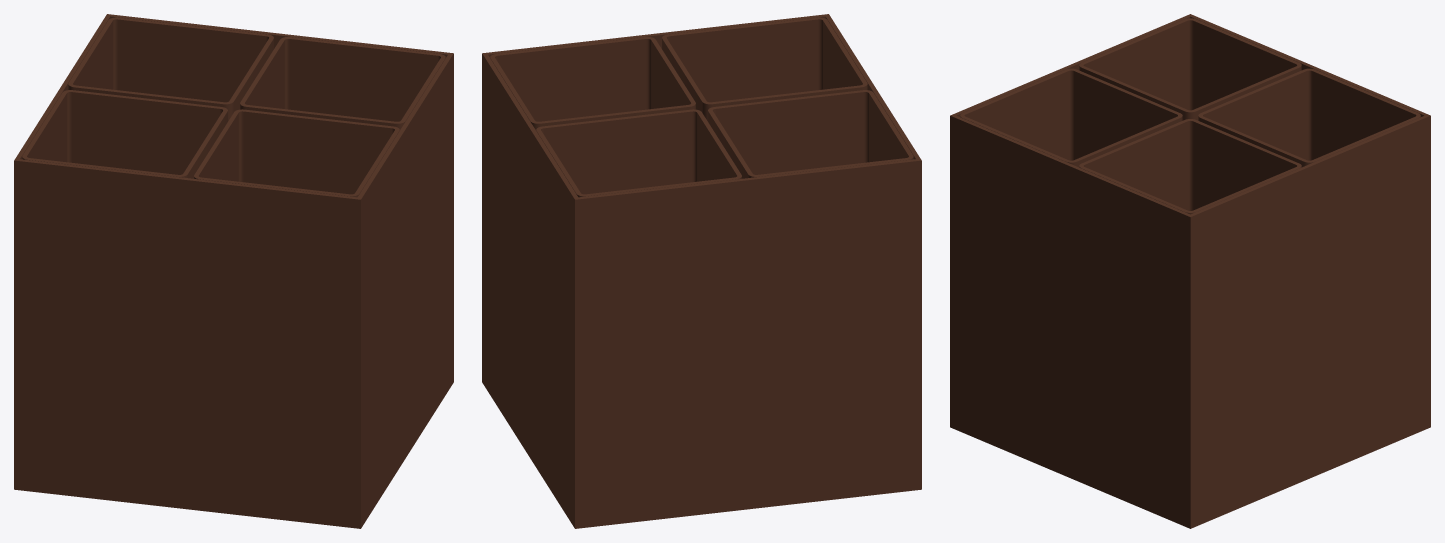
3 renders of one model, left to right at view 1: azimuth 30°, elevation 25°; view 2: azimuth 150°, elevation 25°; view 3: azimuth 270°, elevation 25°, orthographic. The views are drawn at different scales.
Visible parts, largest first — view 1: wrapper, well.002, well, well.001, well.003; view 2: wrapper, well.003, well, well.001, well.002; view 3: wrapper, well.001, well.002, well.003, well.
Boxes of the visible parts, x1=… form: wrapper: x1=14, y1=14, x2=453, y2=528; well.002: x1=68, y1=17, x2=273, y2=121; well: x1=240, y1=37, x2=445, y2=130; well.001: x1=22, y1=90, x2=227, y2=178; well.003: x1=194, y1=109, x2=399, y2=197; wrapper: x1=482, y1=14, x2=921, y2=528; well.003: x1=662, y1=17, x2=867, y2=121; well: x1=490, y1=37, x2=695, y2=130; well.001: x1=708, y1=90, x2=913, y2=178; well.002: x1=536, y1=109, x2=741, y2=197; wrapper: x1=950, y1=14, x2=1430, y2=528; well.001: x1=1079, y1=18, x2=1301, y2=120; well.002: x1=1198, y1=68, x2=1420, y2=167; well.003: x1=960, y1=68, x2=1182, y2=167; well: x1=1079, y1=119, x2=1301, y2=214.
Bounding box in the file's own units: 0.1074 × 0.0768 × 0.1074.
